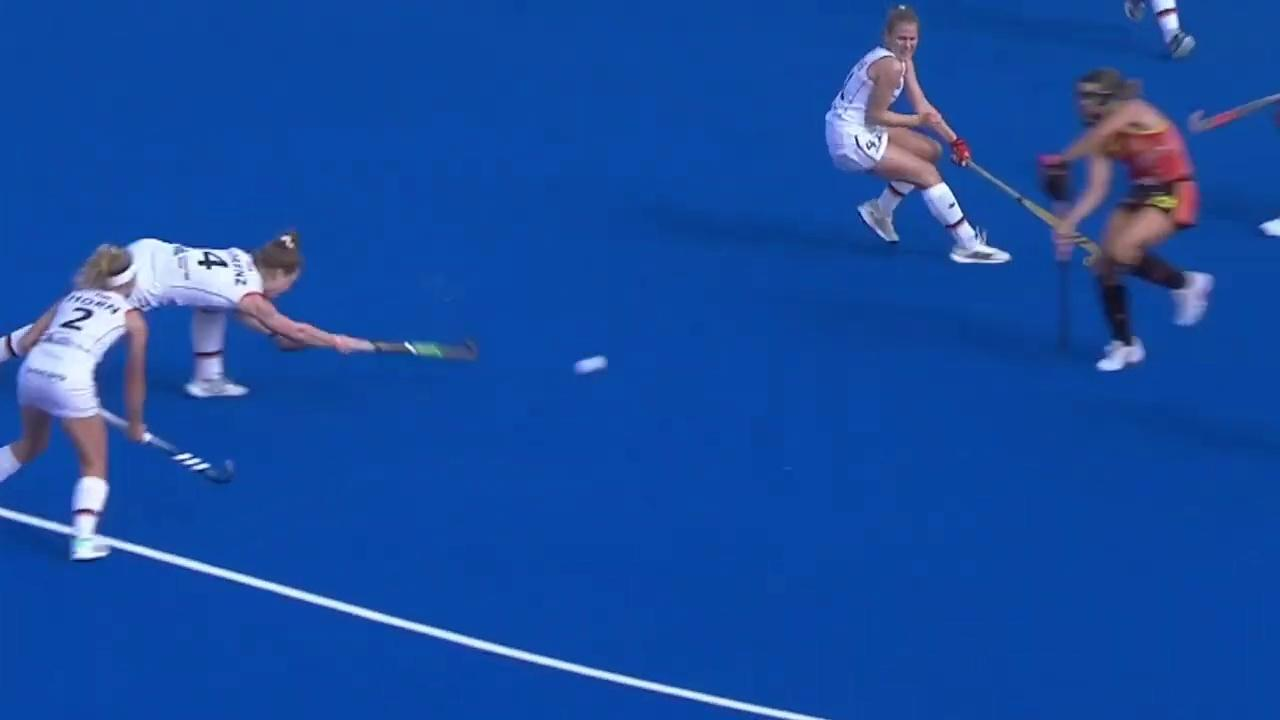ball: (565, 349, 610, 388)
